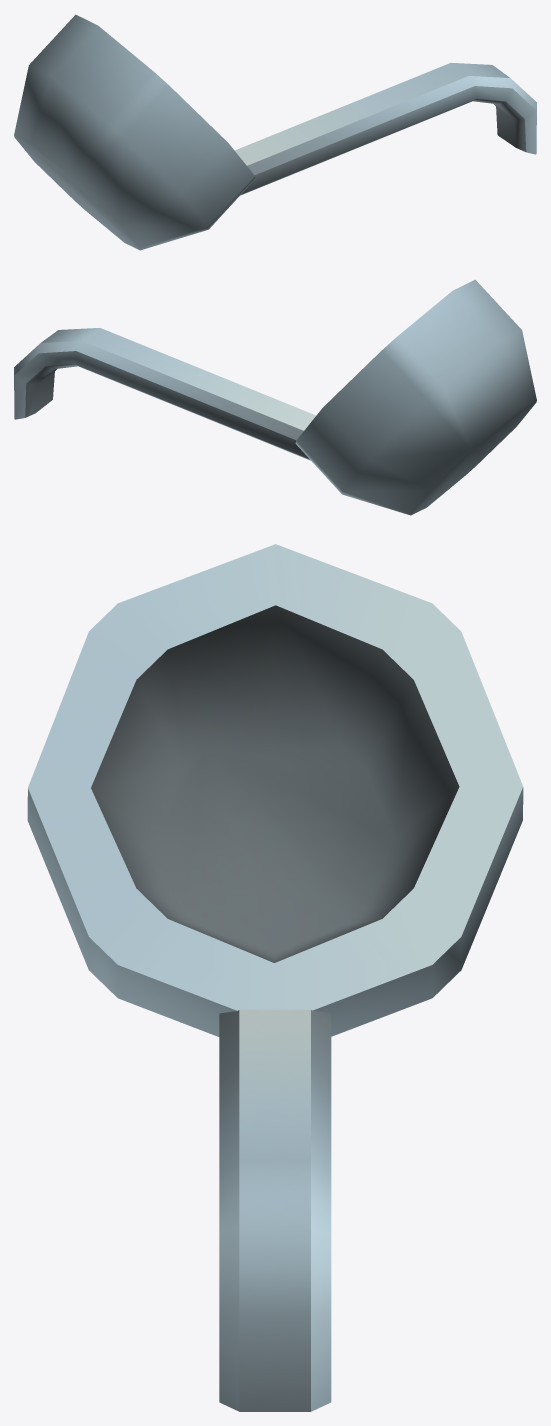
The model's file is laddle_lying_back.fbx.
3 renders of one model, top to bottom at view 1: azimuth 30°, elevation 25°; view 2: azimuth 150°, elevation 25°; view 3: azimuth 270°, elevation 25°, orthographic. The views are drawn at different scales.
Parts seen in each view (by area): view 1: laddle_lying_back; view 2: laddle_lying_back; view 3: laddle_lying_back.
Boxes of the visible parts, x1,y1,x2,y2 form: laddle_lying_back: (14,14,536,250); laddle_lying_back: (14,279,536,515); laddle_lying_back: (27,544,523,1411).
Size of the model in its own units: 44.03 by 18.96 by 18.97.
